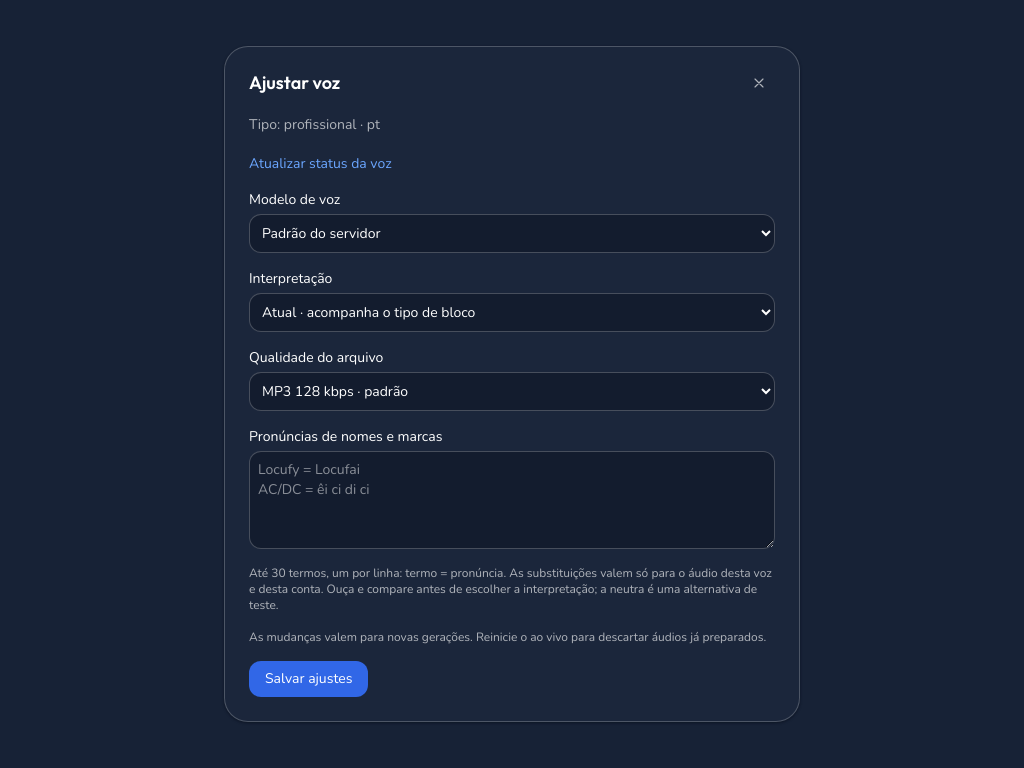
recusa alias inválido antes de enviar
Check: the text "Tipo: profissional · pt" is shown, box [249,115,380,134]
Type "linha inválida" into the text box labelled "Pronúncias de nomes e marcas" at (512, 500), box [249,451,775,549]
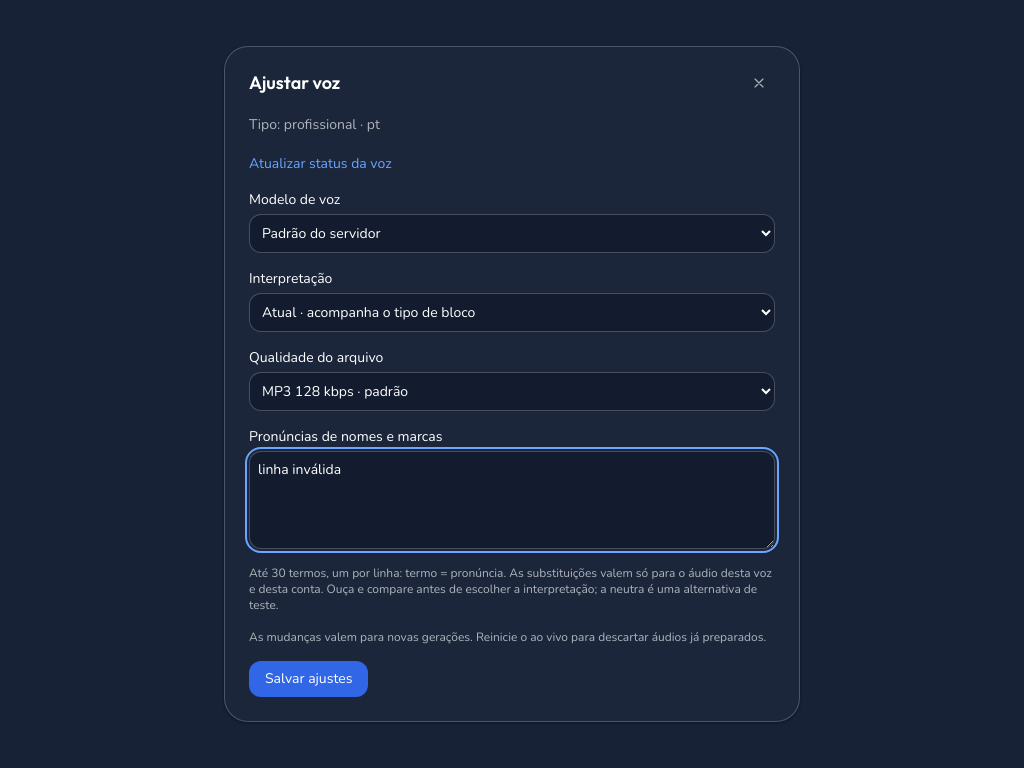
Click the button "Salvar ajustes" at (309, 679), box [249,661,368,697]
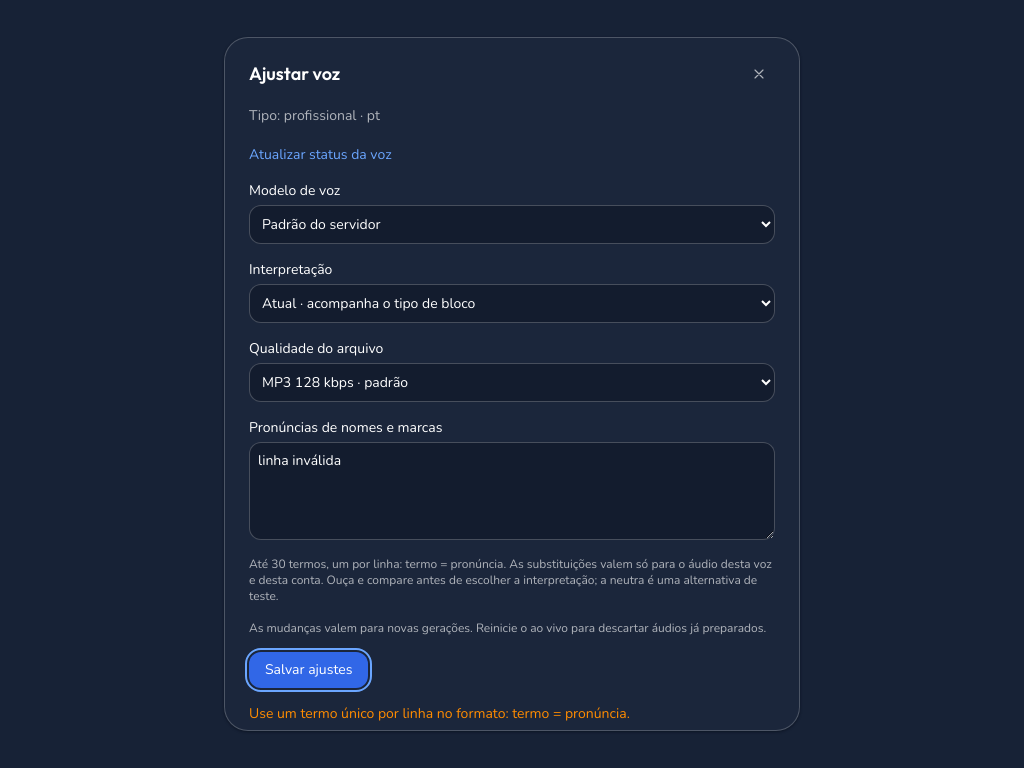
Check: the message shows "termo = pronúncia", box [249,704,630,723]
